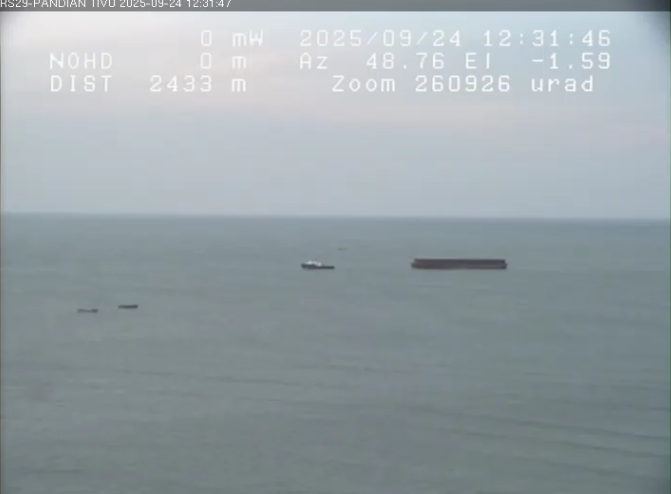BARGE: (386, 242, 535, 288)
FISHING_BOAT: (113, 298, 154, 320), (68, 301, 106, 318)
OFFSHORE_SUPPLY_VESSEL: (283, 246, 351, 280)
TOWING: (258, 234, 584, 322)
